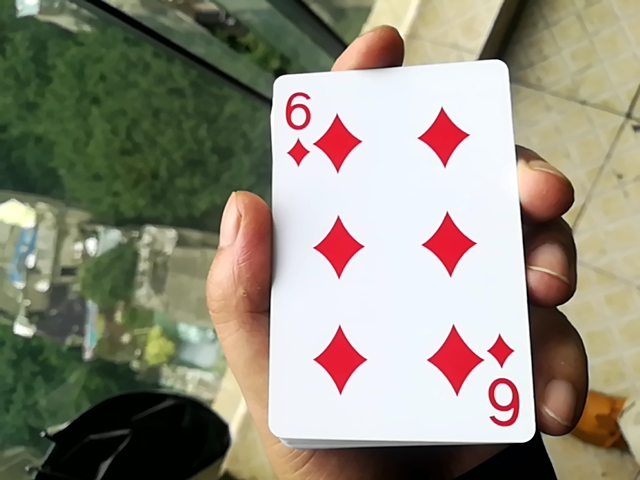fk 6: (247, 58, 547, 445)
